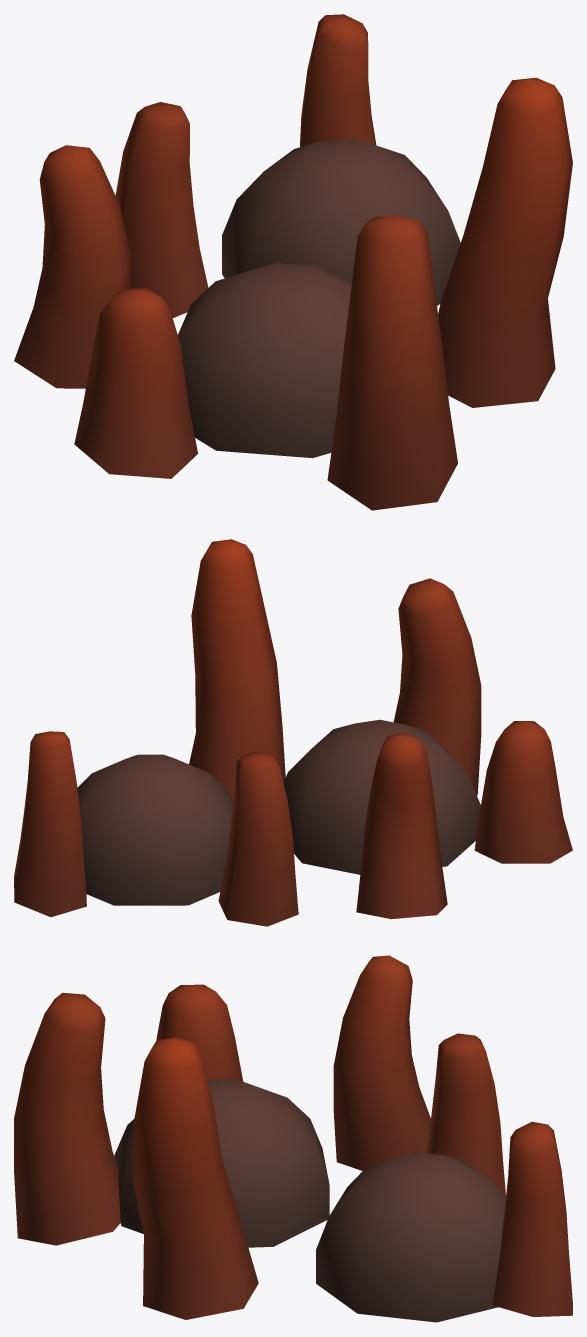
Rendered from inferno-grass-003.glb.
3 renders of one model, top to bottom at view 1: azimuth 30°, elevation 25°; view 2: azimuth 150°, elevation 25°; view 3: azimuth 270°, elevation 25°, orthographic. The views are drawn at different scales.
Parts seen in each view (by area): view 1: Grass_003; view 2: Grass_003; view 3: Grass_003.
Boxes of the visible parts, <box> form: Grass_003: <box>14,14,572,510</box>; Grass_003: <box>14,539,572,926</box>; Grass_003: <box>14,955,572,1322</box>.
Size of the model in its own units: 1.4 by 0.8602 by 1.56.
Materials: 1 (1 with a texture image).
